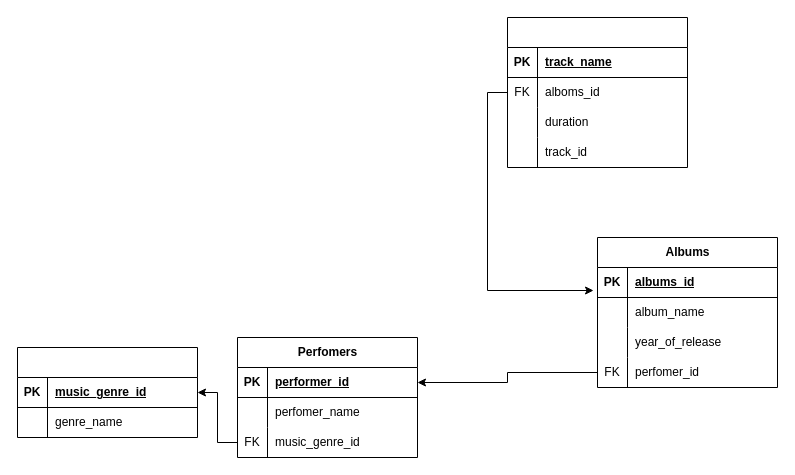
Some shapes in this 795 by 475 pixel diagram are drawn without their labels. The shapes that lost their labels are listed below. From the top down, each one's box as (x1, y1, x2, y2) in pixels, then its label:
(506, 16, 688, 168): Tracks
(16, 346, 198, 438): Genres
